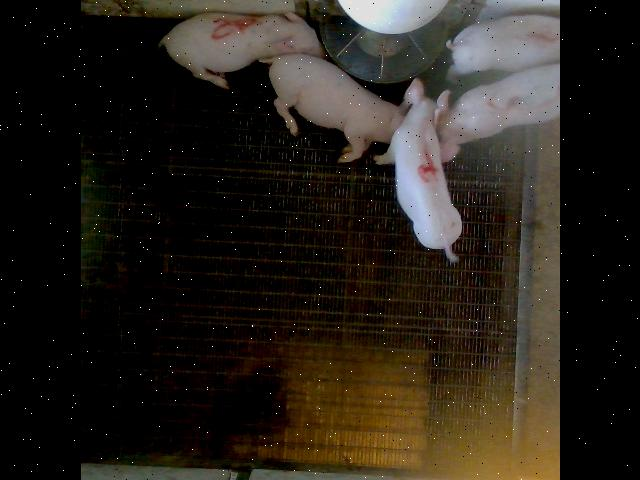pig-1: (446, 16, 559, 75)
pig-3: (435, 64, 558, 160)
pig-4: (389, 80, 461, 261)
pig-5: (159, 12, 323, 88)
